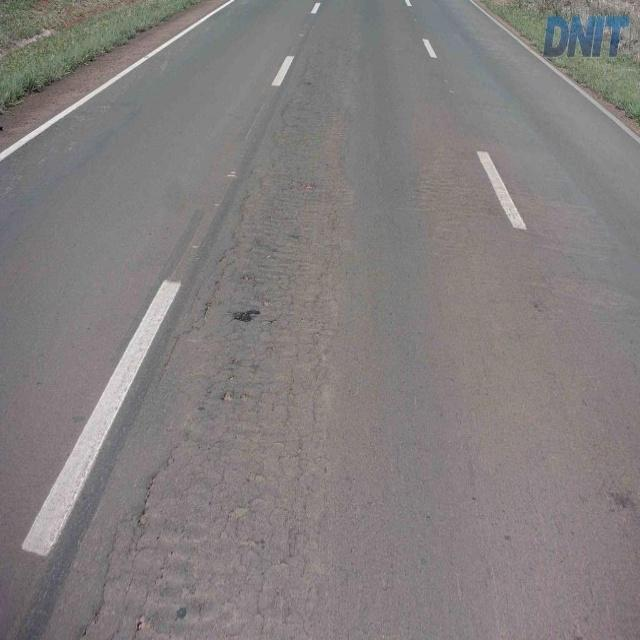pothole: (228, 303, 262, 326)
